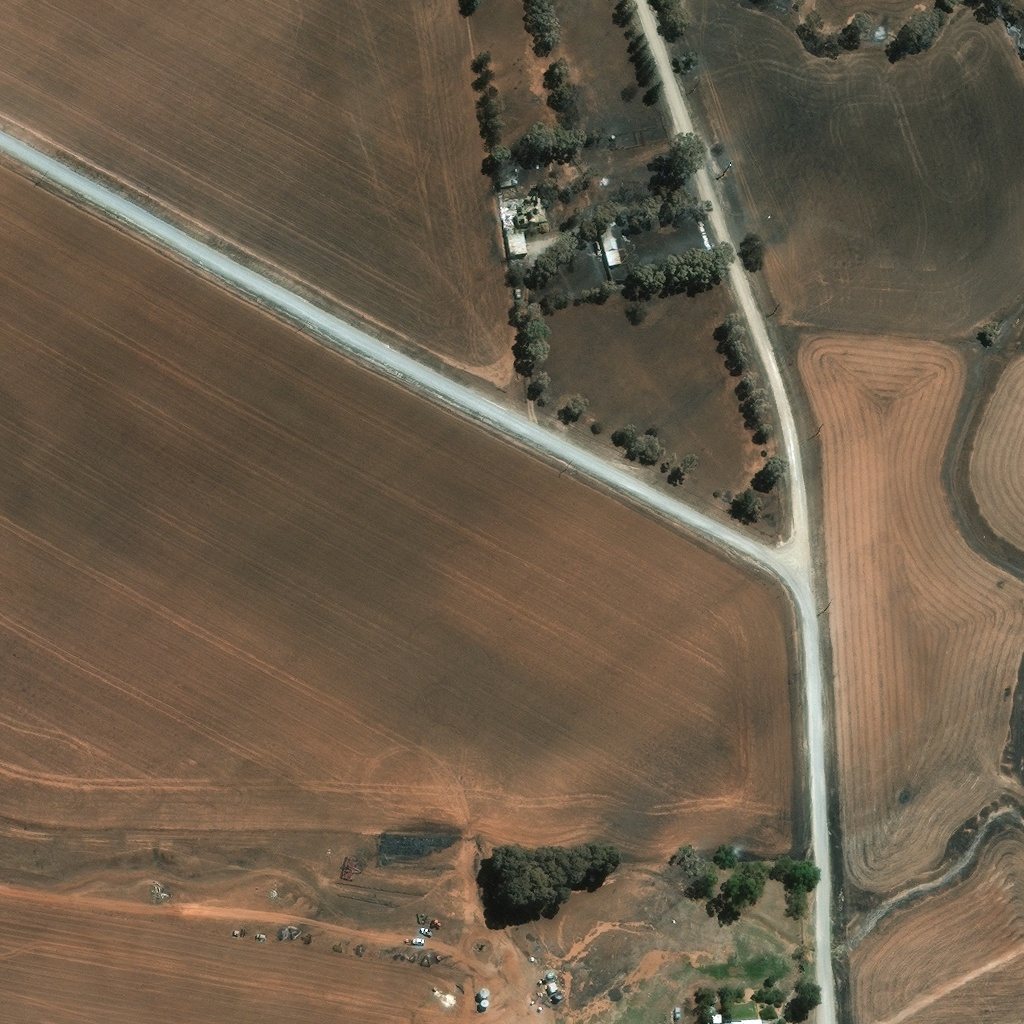0 no-damage: (479, 986, 491, 997), (548, 979, 558, 992), (480, 997, 490, 1007)
2 major-damage: (595, 225, 636, 281), (499, 198, 527, 229), (519, 197, 547, 226), (505, 226, 528, 258), (554, 988, 564, 999)
3 destroyed: (502, 177, 517, 188)
4 un-classified: (723, 1017, 770, 1023), (710, 1011, 722, 1021), (566, 1011, 577, 1021), (559, 1000, 570, 1009)
